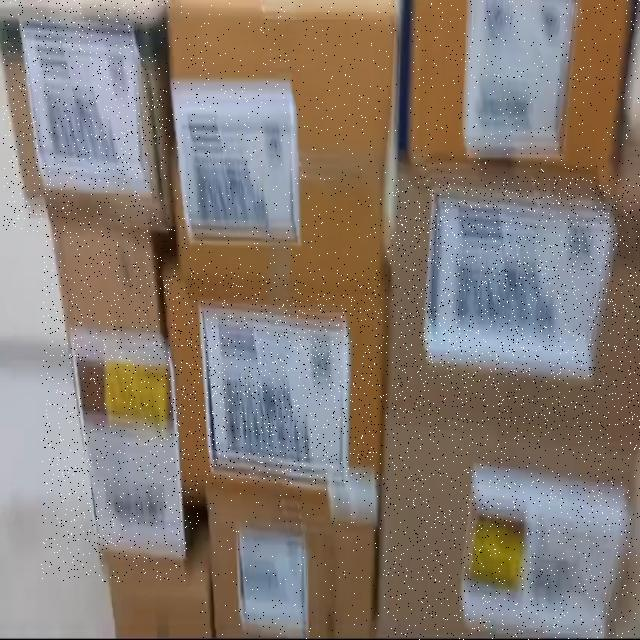BoxFace: (167, 2, 397, 311), (392, 177, 640, 451), (168, 271, 388, 529), (383, 427, 640, 640), (41, 216, 187, 582), (410, 0, 640, 192), (3, 0, 168, 233), (200, 485, 379, 640), (636, 638, 640, 640)
